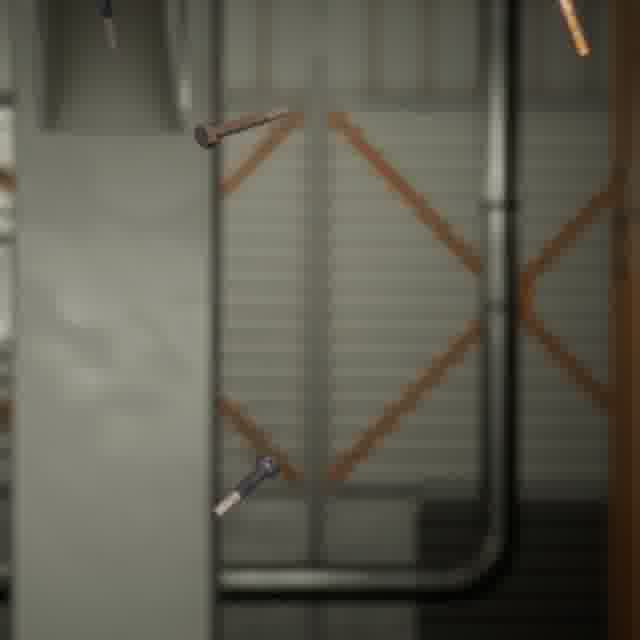bolt: (205, 449, 284, 525), (190, 100, 292, 153), (549, 0, 594, 61), (94, 0, 122, 62)
